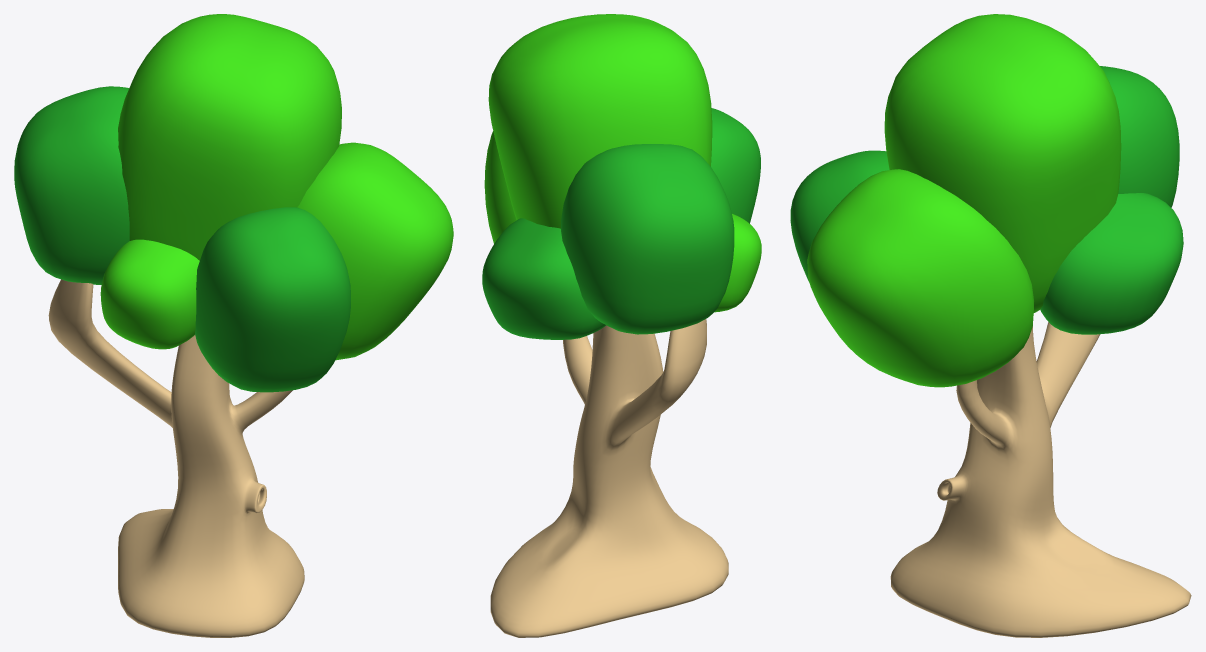
Rendered from Tree.glb.
3 renders of one model, left to right at view 1: azimuth 30°, elevation 25°; view 2: azimuth 150°, elevation 25°; view 3: azimuth 270°, elevation 25°, orthographic. The views are drawn at different scales.
Parts seen in each view (by area): view 1: Cube.003; view 2: Cube.003; view 3: Cube.003.
Boxes of the visible parts, x1,y1,x2,y2 form: Cube.003: [14, 14, 453, 637]; Cube.003: [482, 14, 761, 637]; Cube.003: [790, 14, 1191, 637].
Size of the model in its own units: 8.15 by 13.54 by 8.63.
